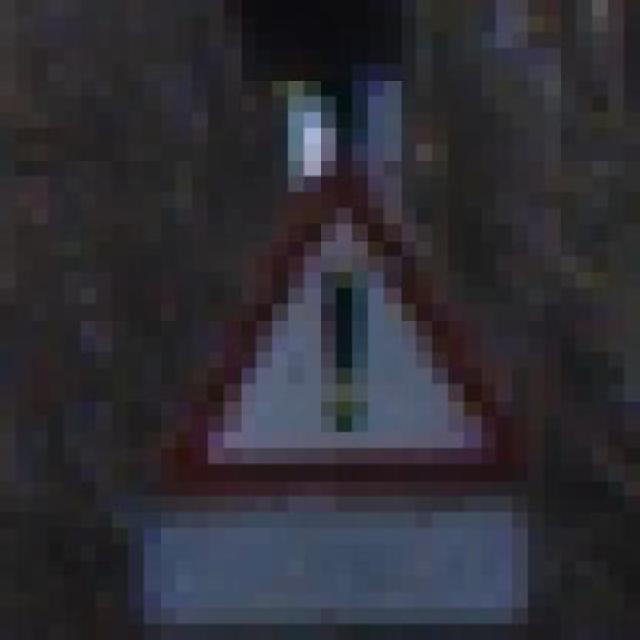Attention Please-: (144, 160, 528, 512)
